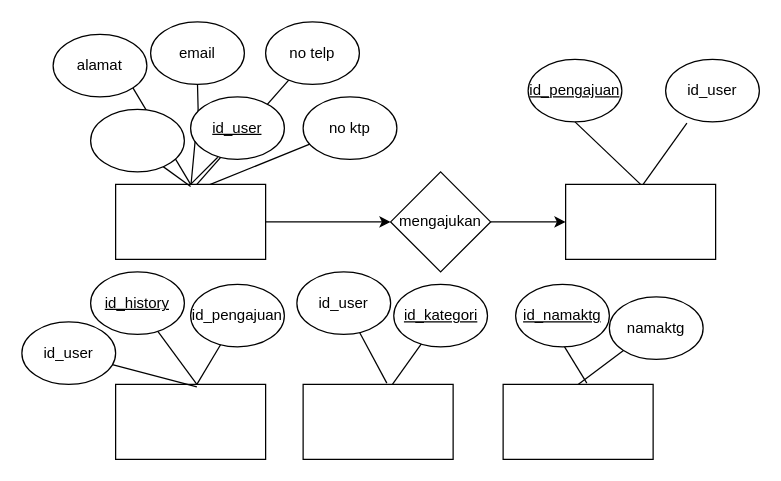
The diagram is 781 pixels wide and 481 high, and some of its shapes have lost their labels. Here are the shapes that lost their labels. From the top down, the centre of each, then its label:
At [136,140]: "nama".
At [190,221]: "user".
At [640,221]: "pengajuan".
At [190,421]: "History".
At [377,421]: "Kategori".
At [577,421]: "tb_namakategori".
